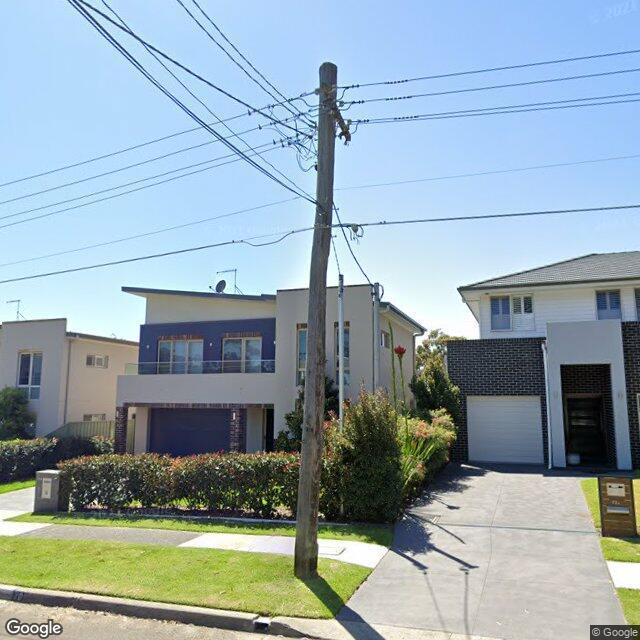crossarm: (316, 88, 351, 142)
steel-pole: (338, 275, 344, 430), (374, 283, 379, 392)
timber-pole: (294, 62, 338, 579)
